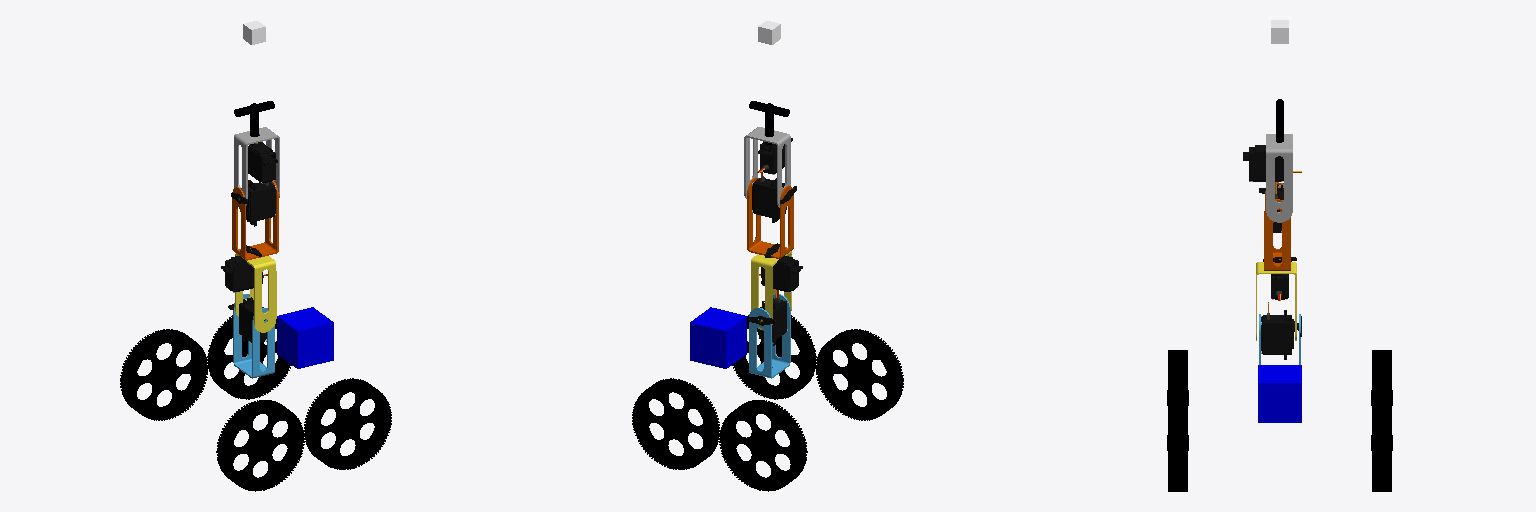
--- Facts derived from the render (not from the file) ---
The picture shows the robot from 3 angles, left to right: view 1: azimuth 30°, elevation 25°; view 2: azimuth 150°, elevation 25°; view 3: azimuth 270°, elevation 25°; orthographic projection.
Robot: Robot_Arm — 25 links, 24 joints (8 revolute, 4 continuous, 12 fixed); root link chassis; default pose: all joints at 0 but 2 set to mid-range because 0 is outside their limits (left_gripper_joint = 0.349, right_gripper_joint = 0.349).
Visible links, largest first — view 1: left_back_wheel1, right_front_wheel1, right_back_wheel1, hokuyo_sensor, left_front_wheel1, shoulder_roll_link, shoulder_pan_link, elbow_pan_link, elbow_pitch_link, servo_wrist_roll, servo_elbow_pan, servo_gripper_pan (+1 smaller); view 2: right_back_wheel1, left_front_wheel1, left_back_wheel1, hokuyo_sensor, right_front_wheel1, shoulder_pan_link, elbow_pitch_link, elbow_pan_link, servo_wrist_roll, shoulder_roll_link, servo_elbow_pan, servo_shoulder_roll (+1 smaller); view 3: hokuyo_sensor, right_front_wheel1, left_front_wheel1, elbow_pitch_link, servo_shoulder_roll, elbow_pan_link, right_back_wheel1, left_back_wheel1, servo_gripper_pan, servo_elbow_pan.
Boxes of the visible links, x1,y1,x2,y2 form: left_back_wheel1: (120,329,207,420); right_front_wheel1: (304,378,391,469); right_back_wheel1: (216,400,304,491); hokuyo_sensor: (277,307,333,368); left_front_wheel1: (207,315,291,399); shoulder_roll_link: (235,254,276,332); shoulder_pan_link: (233,294,274,378); elbow_pan_link: (232,181,278,260); elbow_pitch_link: (234,127,279,205); servo_wrist_roll: (231,180,275,226); servo_elbow_pan: (221,245,267,292); servo_gripper_pan: (248,135,277,183); right_back_wheel1: (816,329,903,420); left_front_wheel1: (632,378,719,469); left_back_wheel1: (719,400,807,491); hokuyo_sensor: (690,307,746,368); right_front_wheel1: (732,315,816,399); shoulder_pan_link: (749,294,790,378); elbow_pitch_link: (744,127,790,207); elbow_pan_link: (747,178,793,258); servo_wrist_roll: (752,172,796,222); shoulder_roll_link: (751,251,791,329); servo_elbow_pan: (759,243,802,292); servo_shoulder_roll: (748,290,787,345); hokuyo_sensor: (1258,365,1301,422); right_front_wheel1: (1167,395,1188,491); left_front_wheel1: (1371,395,1392,491); elbow_pitch_link: (1266,134,1292,222); servo_shoulder_roll: (1261,302,1301,359); elbow_pan_link: (1264,182,1290,270); right_back_wheel1: (1167,350,1188,405); left_back_wheel1: (1371,350,1392,405); servo_gripper_pan: (1243,145,1301,181); servo_elbow_pan: (1263,257,1296,300).
Bounding box of the posed robot: 0.229 × 0.255 × 0.5475 m (x, y, z).
12 mesh visuals loaded from 6 distinct referenced files (3 Collada DAE); not drawn: 5 (reference not matched to a file when rendering).

The robot description file, URDF, robot "Robot_Arm":
<?xml version="1.0" ?>

<robot name="Robot_Arm">
  <!-- /////////////////////////////////////////////////////////////////-->
  <!-- Include materials-->
  <material name="Black">
    <color rgba="0.0 0.0 0.0 1.0"/>
  </material>
  <material name="White">
    <color rgba="1.0 1.0 1.0 1.0"/>
  </material>
  <material name="Blue">
    <color rgba="0.0 0.0 1.0 1.0"/>
  </material>
  <material name="Green">
    <color rgba="0.0 1.0 0.0 1.0"/>
  </material>

  <!-- ////////////////////////////////////////////////////////////-->
  <!-- chassis-->
  <link name="chassis">
    <visual>
      <origin rpy="-1.57 0 1.57" xyz="0 0 0"/>
      <geometry>
        <mesh filename="package://robot_arm/meshes/base assembly.dae"/>
      </geometry>
    </visual>
    <collision>
      <origin rpy="-1.57 0 0" xyz="0 0 0"/>
      <geometry>
        <mesh filename="package://robot_arm/meshes/base assembly.dae"/>
      </geometry>
    </collision>
    <inertial>
      <mass value="5.0"/>
      <inertia ixx="1.0" ixy="0.0" ixz="0.0" iyy="1.0" iyz="0.0" izz="1.0"/>
    </inertial>
  </link>
  <gazebo reference="chassis">
    <turnGravityOff>false</turnGravityOff>
  </gazebo>
  <!-- ///////////////////      Wheels      ///////////////////////   -->
  <link name="right_front_wheel">
    <visual>
      <origin rpy="1.57 0 0" xyz="0 0 0"/>
      <geometry>
        <cylinder length="0.022" radius="0.011"/>
      </geometry>
      <material name="Black"/>
    </visual>
    <collision>
      <origin rpy="1.57 0 0" xyz="0 0 0"/>
      <geometry>
        <cylinder length="0.022" radius="0.011"/>
      </geometry>
    </collision>
    <inertial>
      <mass value="0.2"/>
      <inertia ixx="2.48722222222e-05" ixy="0.0" ixz="0.0" iyy="2.48722222222e-05" iyz="0.0" izz="3.3611111111e-05"/>
    </inertial>
  </link>
  <link name="right_front_wheel1">
    <visual>
      <origin rpy="0  1.57 0" xyz="0 0 0"/>
      <geometry>
        <mesh filename="package://robot_arm/meshes/tyre11.dae"/>
      </geometry>
      <material name="Black"/>
    </visual>
    <collision>
      <origin rpy="0 1.57 0" xyz="0 0 0"/>
      <geometry>
        <mesh filename="package://robot_arm/meshes/tyre11.dae"/>
      </geometry>
    </collision>
    <inertial>
      <mass value="0.2"/>
      <inertia ixx="0.000159316666667" ixy="0.0" ixz="0.0" iyy="0.000159316666667" iyz="0.0" izz="0.0003025"/>
    </inertial>
  </link>
  <gazebo reference="right_front_wheel1">
    <material>Gazebo/Black</material>
    <turnGravityOff>false</turnGravityOff>
  </gazebo>
  <joint name="right_front_wheel_joint1" type="fixed">
    <parent link="right_front_wheel"/>
    <child link="right_front_wheel1"/>
    <origin rpy="0 0 0" xyz="0 0 0"/>
  </joint>
  <gazebo reference="right_front_wheel">
    <mu1 value="200.0"/>
    <mu2 value="100.0"/>
    <kp value="10000000.0"/>
    <kd value="1.0"/>
    <material>Gazebo/Black</material>
  </gazebo>
  <joint name="right_front_wheel_joint" type="continuous">
    <parent link="chassis"/>
    <child link="right_front_wheel"/>
    <origin rpy="0 0 0" xyz="0.062 -0.115  0.015"/>
    <axis xyz="0 1 0"/>
    <limit effort="100" velocity="100"/>
    <dynamics damping="0.0" friction="0.0"/>
  </joint>
  <transmission name="right_front_wheel_trans">
    <type>transmission_interface/SimpleTransmission</type>
    <actuator name="right_front_wheel_motor">
      <hardwareInterface>EffortJointInterface</hardwareInterface>
      <mechanicalReduction>1</mechanicalReduction>
    </actuator>
    <joint name="right_front_wheel_joint">
      <hardwareInterface>VelocityJointInterface</hardwareInterface>
    </joint>
  </transmission>
  <link name="right_back_wheel">
    <visual>
      <origin rpy="1.57 0 0" xyz="0 0 0"/>
      <geometry>
        <cylinder length="0.022" radius="0.011"/>
      </geometry>
      <material name="Black"/>
    </visual>
    <collision>
      <origin rpy="1.57 0 0" xyz="0 0 0"/>
      <geometry>
        <cylinder length="0.022" radius="0.011"/>
      </geometry>
    </collision>
    <inertial>
      <mass value="0.2"/>
      <inertia ixx="2.48722222222e-05" ixy="0.0" ixz="0.0" iyy="2.48722222222e-05" iyz="0.0" izz="3.3611111111e-05"/>
    </inertial>
  </link>
  <link name="right_back_wheel1">
    <visual>
      <origin rpy="0  1.57 0" xyz="0 0 0"/>
      <geometry>
        <mesh filename="package://robot_arm/meshes/tyre11.dae"/>
      </geometry>
      <material name="Black"/>
    </visual>
    <collision>
      <origin rpy="0 1.57 0" xyz="0 0 0"/>
      <geometry>
        <mesh filename="package://robot_arm/meshes/tyre11.dae"/>
      </geometry>
    </collision>
    <inertial>
      <mass value="0.2"/>
      <inertia ixx="0.000159316666667" ixy="0.0" ixz="0.0" iyy="0.000159316666667" iyz="0.0" izz="0.0003025"/>
    </inertial>
  </link>
  <gazebo reference="right_back_wheel1">
    <material>Gazebo/Black</material>
    <turnGravityOff>false</turnGravityOff>
  </gazebo>
  <joint name="right_back_wheel_joint1" type="fixed">
    <parent link="right_back_wheel"/>
    <child link="right_back_wheel1"/>
    <origin rpy="0 0 0" xyz="0 0 0"/>
  </joint>
  <gazebo reference="right_back_wheel">
    <mu1 value="200.0"/>
    <mu2 value="100.0"/>
    <kp value="10000000.0"/>
    <kd value="1.0"/>
    <material>Gazebo/Black</material>
  </gazebo>
  <joint name="right_back_wheel_joint" type="continuous">
    <parent link="chassis"/>
    <child link="right_back_wheel"/>
    <origin rpy="0 0 0" xyz="-0.058 -0.115  0.015"/>
    <axis xyz="0 1 0"/>
    <limit effort="100" velocity="100"/>
    <dynamics damping="0.0" friction="0.0"/>
  </joint>
  <transmission name="right_back_wheel_trans">
    <type>transmission_interface/SimpleTransmission</type>
    <actuator name="right_back_wheel_motor">
      <hardwareInterface>EffortJointInterface</hardwareInterface>
      <mechanicalReduction>1</mechanicalReduction>
    </actuator>
    <joint name="right_back_wheel_joint">
      <hardwareInterface>VelocityJointInterface</hardwareInterface>
    </joint>
  </transmission>
  <link name="left_front_wheel">
    <visual>
      <origin rpy="1.57 0 0" xyz="0 0 0"/>
      <geometry>
        <cylinder length="0.022" radius="0.011"/>
      </geometry>
      <material name="Black"/>
    </visual>
    <collision>
      <origin rpy="1.57 0 0" xyz="0 0 0"/>
      <geometry>
        <cylinder length="0.022" radius="0.011"/>
      </geometry>
    </collision>
    <inertial>
      <mass value="0.2"/>
      <inertia ixx="2.48722222222e-05" ixy="0.0" ixz="0.0" iyy="2.48722222222e-05" iyz="0.0" izz="3.3611111111e-05"/>
    </inertial>
  </link>
  <link name="left_front_wheel1">
    <visual>
      <origin rpy="0  1.57 0" xyz="0 0 0"/>
      <geometry>
        <mesh filename="package://robot_arm/meshes/tyre11.dae"/>
      </geometry>
      <material name="Black"/>
    </visual>
    <collision>
      <origin rpy="0 1.57 0" xyz="0 0 0"/>
      <geometry>
        <mesh filename="package://robot_arm/meshes/tyre11.dae"/>
      </geometry>
    </collision>
    <inertial>
      <mass value="0.2"/>
      <inertia ixx="0.000159316666667" ixy="0.0" ixz="0.0" iyy="0.000159316666667" iyz="0.0" izz="0.0003025"/>
    </inertial>
  </link>
  <gazebo reference="left_front_wheel1">
    <material>Gazebo/Black</material>
    <turnGravityOff>false</turnGravityOff>
  </gazebo>
  <joint name="left_front_wheel_joint1" type="fixed">
    <parent link="left_front_wheel"/>
    <child link="left_front_wheel1"/>
    <origin rpy="0 0 0" xyz="0 0 0"/>
  </joint>
  <gazebo reference="left_front_wheel">
    <mu1 value="200.0"/>
    <mu2 value="100.0"/>
    <kp value="10000000.0"/>
    <kd value="1.0"/>
    <material>Gazebo/Black</material>
  </gazebo>
  <joint name="left_front_wheel_joint" type="continuous">
    <parent link="chassis"/>
    <child link="left_front_wheel"/>
    <origin rpy="0 0 0" xyz="0.062 0.115  0.015"/>
    <axis xyz="0 1 0"/>
    <limit effort="100" velocity="100"/>
    <dynamics damping="0.0" friction="0.0"/>
  </joint>
  <transmission name="left_front_wheel_trans">
    <type>transmission_interface/SimpleTransmission</type>
    <actuator name="left_front_wheel_motor">
      <hardwareInterface>EffortJointInterface</hardwareInterface>
      <mechanicalReduction>1</mechanicalReduction>
    </actuator>
    <joint name="left_front_wheel_joint">
      <hardwareInterface>VelocityJointInterface</hardwareInterface>
    </joint>
  </transmission>
  <link name="left_back_wheel">
    <visual>
      <origin rpy="1.57 0 0" xyz="0 0 0"/>
      <geometry>
        <cylinder length="0.022" radius="0.011"/>
      </geometry>
      <material name="Black"/>
    </visual>
    <collision>
      <origin rpy="1.57 0 0" xyz="0 0 0"/>
      <geometry>
        <cylinder length="0.022" radius="0.011"/>
      </geometry>
    </collision>
    <inertial>
      <mass value="0.2"/>
      <inertia ixx="2.48722222222e-05" ixy="0.0" ixz="0.0" iyy="2.48722222222e-05" iyz="0.0" izz="3.3611111111e-05"/>
    </inertial>
  </link>
  <link name="left_back_wheel1">
    <visual>
      <origin rpy="0  1.57 0" xyz="0 0 0"/>
      <geometry>
        <mesh filename="package://robot_arm/meshes/tyre11.dae"/>
      </geometry>
      <material name="Black"/>
    </visual>
    <collision>
      <origin rpy="0 1.57 0" xyz="0 0 0"/>
      <geometry>
        <mesh filename="package://robot_arm/meshes/tyre11.dae"/>
      </geometry>
    </collision>
    <inertial>
      <mass value="0.2"/>
      <inertia ixx="0.000159316666667" ixy="0.0" ixz="0.0" iyy="0.000159316666667" iyz="0.0" izz="0.0003025"/>
    </inertial>
  </link>
  <gazebo reference="left_back_wheel1">
    <material>Gazebo/Black</material>
    <turnGravityOff>false</turnGravityOff>
  </gazebo>
  <joint name="left_back_wheel_joint1" type="fixed">
    <parent link="left_back_wheel"/>
    <child link="left_back_wheel1"/>
    <origin rpy="0 0 0" xyz="0 0 0"/>
  </joint>
  <gazebo reference="left_back_wheel">
    <mu1 value="200.0"/>
    <mu2 value="100.0"/>
    <kp value="10000000.0"/>
    <kd value="1.0"/>
    <material>Gazebo/Black</material>
  </gazebo>
  <joint name="left_back_wheel_joint" type="continuous">
    <parent link="chassis"/>
    <child link="left_back_wheel"/>
    <origin rpy="0 0 0" xyz="-0.058 0.115  0.015"/>
    <axis xyz="0 1 0"/>
    <limit effort="100" velocity="100"/>
    <dynamics damping="0.0" friction="0.0"/>
  </joint>
  <transmission name="left_back_wheel_trans">
    <type>transmission_interface/SimpleTransmission</type>
    <actuator name="left_back_wheel_motor">
      <hardwareInterface>EffortJointInterface</hardwareInterface>
      <mechanicalReduction>1</mechanicalReduction>
    </actuator>
    <joint name="left_back_wheel_joint">
      <hardwareInterface>VelocityJointInterface</hardwareInterface>
    </joint>
  </transmission>
  <!-- /////////////////////////////////////////////////// -->
  <!-- shoulder pan link -->
  <link name="shoulder_pan_link">
    <visual>
      <origin rpy="0 0 0" xyz="-0.0235 -0.0145 0.075"/>
      <geometry>
        <mesh filename="package://robot_arm/meshes/mid-arm.dae"/>
      </geometry>
    </visual>
    <collision>
      <origin rpy="0 0 0" xyz="-0.0235 -0.0145 0.075"/>
      <geometry>
        <mesh filename="package://robot_arm/meshes/mid-arm.dae"/>
      </geometry>
    </collision>
    <inertial>
      <mass value="0.05"/>
      <inertia ixx="1.0" ixy="0.0" ixz="0.0" iyy="1.0" iyz="0.0" izz="1.0"/>
    </inertial>
  </link>
  <joint name="shoulder_pan_joint" type="revolute">
    <parent link="chassis"/>
    <child link="shoulder_pan_link"/>
    <origin rpy="0 0 1.57" xyz="0 0 0.07"/>
    <axis xyz="0 0 1"/>
    <limit effort="100" lower="-2.00" upper="1.57" velocity="100"/>
    <dynamics damping="0.0" friction="0.0"/>
  </joint>
  <!--  SERVO shoulder pan link motor-->
  <link name="servo_shoulder_roll">
    <visual>
      <origin rpy="4.71 0 1.57" xyz="-0.015 0.04 0"/>
      <geometry>
        <mesh filename="package://robot_arm/meshes/Servo Motor.dae"/>
      </geometry>
    </visual>
    <collision>
      <origin rpy="4.71 0 1.57" xyz="-0.015 0.04 0"/>
      <geometry>
        <mesh filename="package://robot_arm/meshes/Servo Motor.dae"/>
      </geometry>
    </collision>
    <inertial>
      <mass value="0.05"/>
      <inertia ixx="1.0" ixy="0.0" ixz="0.0" iyy="1.0" iyz="0.0" izz="1.0"/>
    </inertial>
  </link>
  <gazebo reference="servo_shoulder_roll">
    <turnGravityOff>false</turnGravityOff>
  </gazebo>
  <joint name="servo_joint1" type="fixed">
    <parent link="shoulder_pan_link"/>
    <child link="servo_shoulder_roll"/>
    <origin rpy="0 0 0" xyz="-0.004 -0.002 0.080"/>
  </joint>
  <!-- //////////////////////////////////////////////////////////////////////////////-->
  <link name="shoulder_roll_link">
    <visual>
      <origin rpy="3.14 0 0" xyz="-0.0275 0.0155 -0.015"/>
      <geometry>
        <mesh filename="package://robot_arm/meshes/mid-arm.dae"/>
      </geometry>
    </visual>
    <collision>
      <origin rpy="3.14 0 0" xyz="-0.0275 0.0155 -0.015"/>
      <geometry>
        <mesh filename="package://robot_arm/meshes/mid-arm.dae"/>
      </geometry>
    </collision>
    <inertial>
      <mass value="0.05"/>
      <inertia ixx="1.0" ixy="0.0" ixz="0.0" iyy="1.0" iyz="0.0" izz="1.0"/>
    </inertial>
  </link>
  <joint name="shoulder_roll_joint" type="revolute">
    <parent link="shoulder_pan_link"/>
    <child link="shoulder_roll_link"/>
    <origin rpy="0 0 0" xyz="0 0 0.06"/>
    <axis xyz="1 0 0"/>
    <limit effort="100" lower="-1.57" upper="2.00" velocity="100"/>
    <dynamics damping="0.0" friction="0.0"/>
  </joint>
  <!-- SERVO elbow roll motor-->
  <link name="servo_elbow_pan">
    <visual>
      <origin rpy="3.14 0 3.14" xyz="-0.035 -0.016 0"/>
      <geometry>
        <mesh filename="package://robot_arm/meshes/Servo Motor.dae"/>
      </geometry>
    </visual>
    <collision>
      <origin rpy="3.14 0 3.14" xyz="-0.035 -0.016 0"/>
      <geometry>
        <mesh filename="package://robot_arm/meshes/Servo Motor.dae"/>
      </geometry>
    </collision>
    <inertial>
      <mass value="0.05"/>
      <inertia ixx="1.0" ixy="0.0" ixz="0.0" iyy="1.0" iyz="0.0" izz="1.0"/>
    </inertial>
  </link>
  <gazebo reference="servo_elbow_pan">
    <turnGravityOff>false</turnGravityOff>
  </gazebo>
  <joint name="servo_joint2" type="fixed">
    <parent link="shoulder_roll_link"/>
    <child link="servo_elbow_pan"/>
    <origin rpy="0 0 0" xyz="0 0 0.040"/>
  </joint>
  <!--/////////////////////////////////////////////////////////////////////////////////////-->
  <link name="elbow_pan_link">
    <visual>
      <origin rpy="0 0 0" xyz="-0.0235 -0.0125 0.09"/>
      <geometry>
        <mesh filename="package://robot_arm/meshes/mid-arm.dae"/>
      </geometry>
    </visual>
    <collision>
      <origin rpy="0 0 0" xyz="-0.0235 -0.0125 0.09"/>
      <geometry>
        <mesh filename="package://robot_arm/meshes/mid-arm.dae"/>
      </geometry>
    </collision>
    <inertial>
      <mass value="0.05"/>
      <inertia ixx="1.0" ixy="0.0" ixz="0.0" iyy="1.0" iyz="0.0" izz="1.0"/>
    </inertial>
  </link>
  <joint name="elbow_pan_joint" type="revolute">
    <parent link="shoulder_roll_link"/>
    <child link="elbow_pan_link"/>
    <origin rpy="0 0 1.57" xyz="0 0 0.08"/>
    <axis xyz="0 0 1"/>
    <limit effort="100" lower="-1.57" upper="1.57" velocity="100"/>
    <dynamics damping="0.0" friction="0.0"/>
  </joint>
  <!--  SERVO wrist roll link motor-->
  <link name="servo_wrist_roll">
    <visual>
      <origin rpy="4.71 0 1.57" xyz="-0.015 0.04 0"/>
      <geometry>
        <mesh filename="package://robot_arm/meshes/Servo Motor.dae"/>
      </geometry>
    </visual>
    <collision>
      <origin rpy="4.71 0 1.57" xyz="-0.015 0.04 0"/>
      <geometry>
        <mesh filename="package://robot_arm/meshes/Servo Motor.dae"/>
      </geometry>
    </collision>
    <inertial>
      <mass value="0.05"/>
      <inertia ixx="1.0" ixy="0.0" ixz="0.0" iyy="1.0" iyz="0.0" izz="1.0"/>
    </inertial>
  </link>
  <gazebo reference="servo_wrist_roll">
    <turnGravityOff>false</turnGravityOff>
  </gazebo>
  <joint name="servo_joint3" type="fixed">
    <parent link="elbow_pan_link"/>
    <child link="servo_wrist_roll"/>
    <origin rpy="0 0 0" xyz="-0.004 0 0.098"/>
  </joint>
  <!--////////////////////////////////////////////////////////////////////////////////////-->
  <!-- elbow pitch link -->
  <link name="elbow_pitch_link">
    <visual>
      <origin rpy="3.14 0 0" xyz="-0.0265 0.0155 -0.015"/>
      <geometry>
        <mesh filename="package://robot_arm/meshes/mid-arm.dae"/>
      </geometry>
    </visual>
    <collision>
      <origin rpy="3.14 0 0" xyz="-0.0265 0.0155 -0.015"/>
      <geometry>
        <mesh filename="package://robot_arm/meshes/mid-arm.dae"/>
      </geometry>
    </collision>
    <inertial>
      <mass value="0.05"/>
      <inertia ixx="1.0" ixy="0.0" ixz="0.0" iyy="1.0" iyz="0.0" izz="1.0"/>
    </inertial>
  </link>
  <joint name="elbow_pitch_joint" type="revolute">
    <parent link="elbow_pan_link"/>
    <child link="elbow_pitch_link"/>
    <origin rpy="0 0 0" xyz="0 0 0.078"/>
    <axis xyz="1 0 0"/>
    <limit effort="100" lower="-1.57" upper="2.00" velocity="100"/>
    <dynamics damping="0.0" friction="0.0"/>
  </joint>
  <!-- SERVO gripper pan motor-->
  <link name="servo_gripper_pan">
    <visual>
      <origin rpy="3.14 0 3.14" xyz="-0.035 -0.016 0"/>
      <geometry>
        <mesh filename="package://robot_arm/meshes/Servo Motor.dae"/>
      </geometry>
    </visual>
    <collision>
      <origin rpy="3.14 0 3.14" xyz="-0.035 -0.016 0"/>
      <geometry>
        <mesh filename="package://robot_arm/meshes/Servo Motor.dae"/>
      </geometry>
    </collision>
    <inertial>
      <mass value="0.05"/>
      <inertia ixx="1.0" ixy="0.0" ixz="0.0" iyy="1.0" iyz="0.0" izz="1.0"/>
    </inertial>
  </link>
  <gazebo reference="servo_gripper_pan">
    <turnGravityOff>false</turnGravityOff>
  </gazebo>
  <joint name="servo_joint4" type="fixed">
    <parent link="elbow_pitch_link"/>
    <child link="servo_gripper_pan"/>
    <origin rpy="0 0 0" xyz="0 0 0.03"/>
  </joint>
  <!-- ////////////////////////////////////////////////////////////////////////////-->
  <link name="gripper_pan_link">
    <visual>
      <origin rpy="0 0 0" xyz="0 0 0"/>
      <geometry>
        <cylinder length="0.05" radius="0.005"/>
      </geometry>
      <material name="Black"/>
    </visual>
    <collision>
      <origin rpy="0 0 0" xyz="0 0 0"/>
      <geometry>
        <cylinder length="0.05" radius="0.005"/>
      </geometry>
    </collision>
    <inertial>
      <mass value="0.01"/>
      <inertia ixx="1.0" ixy="0.0" ixz="0.0" iyy="1.0" iyz="0.0" izz="1.0"/>
    </inertial>
  </link>
  <gazebo reference="gripper_pan_link">
    <material>Gazebo/Black</material>
  </gazebo>
  <joint name="gripper_pan_joint" type="revolute">
    <parent link="elbow_pitch_link"/>
    <child link="gripper_pan_link"/>
    <origin rpy="0 0 0" xyz="0 0 0.09"/>
    <axis xyz="0 0 1"/>
    <limit effort="100" lower="-1.57" upper="1.57" velocity="100"/>
    <dynamics damping="0.0" friction="0.0"/>
  </joint>
  <link name="gripper_pitch_link">
    <visual>
      <origin rpy="0 0 0" xyz="0 0 0"/>
      <geometry>
        <cylinder length="0.05" radius="0.005"/>
      </geometry>
      <material name="Black"/>
    </visual>
    <collision>
      <origin rpy="0 0 0" xyz="0 0 0"/>
      <geometry>
        <cylinder length="0.05" radius="0.005"/>
      </geometry>
    </collision>
    <inertial>
      <mass value="0.01"/>
      <inertia ixx="1.0" ixy="0.0" ixz="0.0" iyy="1.0" iyz="0.0" izz="1.0"/>
    </inertial>
  </link>
  <gazebo reference="gripper_pitch_link">
    <material>Gazebo/Black</material>
  </gazebo>
  <joint name="gripper_pitch_joint" type="revolute">
    <parent link="gripper_pan_link"/>
    <child link="gripper_pitch_link"/>
    <origin rpy="0 1.57 0" xyz="0 0 0.02"/>
    <axis xyz="0 1 0"/>
    <limit effort="100" lower="-1.57" upper="1.57" velocity="100"/>
    <dynamics damping="0.0" friction="0.0"/>
  </joint>
  <!--////////////////////////////////////////////////////////////////-->
  <joint name="left_gripper_joint" type="revolute">
    <axis xyz="-1.0 0 0"/>
    <limit effort="100.0" lower="0.15" upper="0.548" velocity="1"/>
    <origin rpy="0 -1.57 0" xyz="0 0.01 0"/>
    <parent link="gripper_pitch_link"/>
    <child link="left_gripper"/>
    <safety_controller k_position="20" k_velocity="20" soft_lower_limit="-0.15" soft_upper_limit="0.0"/>
    <dynamics damping="50" friction="1"/>
  </joint>
  <link name="left_gripper">
    <visual>
      <origin rpy="0 -1.57 0.0" xyz="0 0 0"/>
      <geometry>
        <mesh filename="package://urdf_tutorial/meshes/l_finger.dae"/>
      </geometry>
    </visual>
    <collision>
      <geometry>
        <mesh filename="package://urdf_tutorial/meshes/l_finger.dae"/>
      </geometry>
      <origin rpy="0 -1.57 0.0" xyz="0 0 0"/>
    </collision>
    <inertial>
      <mass value="0.05"/>
      <inertia ixx="1.0" ixy="0.0" ixz="0.0" iyy="1.0" iyz="0.0" izz="1.0"/>
    </inertial>
  </link>
  <joint name="left_tip_joint" type="fixed">
    <parent link="left_gripper"/>
    <child link="left_tip"/>
  </joint>
  <link name="left_tip">
    <visual>
      <origin rpy="0 -1.57 0.0" xyz="0 0.00495 0.09137"/>
      <geometry>
        <mesh filename="package://urdf_tutorial/meshes/l_finger_tip.dae"/>
      </geometry>
    </visual>
    <collision>
      <geometry>
        <mesh filename="package://urdf_tutorial/meshes/l_finger_tip.dae"/>
      </geometry>
      <origin rpy="0 -1.57 0.0" xyz="0 0.00495 0.09137"/>
    </collision>
    <inertial>
      <mass value="0.05"/>
      <inertia ixx="1.0" ixy="0.0" ixz="0.0" iyy="1.0" iyz="0.0" izz="1.0"/>
    </inertial>
  </link>
  <joint name="right_gripper_joint" type="revolute">
    <axis xyz="1.0 0 0"/>
    <limit effort="100.0" lower="0.15" upper="0.548" velocity="1"/>
    <origin rpy="0 -1.57 0" xyz="0 -0.01 0"/>
    <parent link="gripper_pitch_link"/>
    <child link="right_gripper"/>
    <safety_controller k_position="20" k_velocity="20" soft_lower_limit="-0.15" soft_upper_limit="0.0"/>
    <dynamics damping="50" friction="1"/>
  </joint>
  <link name="right_gripper">
    <visual>
      <origin rpy="0 -1.57 -3.14" xyz="0 0 0"/>
      <geometry>
        <mesh filename="package://urdf_tutorial/meshes/l_finger.dae"/>
      </geometry>
    </visual>
    <collision>
      <geometry>
        <mesh filename="package://urdf_tutorial/meshes/l_finger.dae"/>
      </geometry>
      <origin rpy="0 -1.57 -3.14" xyz="0 0 0"/>
    </collision>
    <inertial>
      <mass value="0.05"/>
      <inertia ixx="1.0" ixy="0.0" ixz="0.0" iyy="1.0" iyz="0.0" izz="1.0"/>
    </inertial>
  </link>
  <joint name="right_tip_joint" type="fixed">
    <parent link="right_gripper"/>
    <child link="right_tip"/>
  </joint>
  <link name="right_tip">
    <visual>
      <origin rpy="0 -1.57 -3.14" xyz="0 -0.00495 0.09137"/>
      <geometry>
        <mesh filename="package://urdf_tutorial/meshes/l_finger_tip.dae"/>
      </geometry>
    </visual>
    <collision>
      <geometry>
        <mesh filename="package://urdf_tutorial/meshes/l_finger_tip.dae"/>
      </geometry>
      <origin rpy="0 -1.57 -3.14" xyz="0 -0.00495 0.09137"/>
    </collision>
    <inertial>
      <mass value="0.05"/>
      <inertia ixx="1.0" ixy="0.0" ixz="0.0" iyy="1.0" iyz="0.0" izz="1.0"/>
    </inertial>
  </link>
  <!--///////////////////////////////////////////////////////////////// -->
  <link name="hokuyo_sensor">
    <visual>
      <origin rpy="0 0 0" xyz="0 0 0"/>
      <geometry>
        <box size="0.05 0.05 0.05"/>
      </geometry>
      <material name="Blue"/>
    </visual>
  </link>
  <joint name="hokuyo_joint" type="fixed">
    <origin rpy="0 0 0" xyz="0.07 0 0.08"/>
    <parent link="chassis"/>
    <child link="hokuyo_sensor"/>
  </joint>
  <gazebo reference="hokuyo_sensor">
    <material>Gazebo/Blue</material>
    <turnGravityOff>false</turnGravityOff>
    <sensor name="chassis_hokuyo_sensor" type="ray">
      <pose>0.025 0 0 0 0 0</pose>
      <visualize>false</visualize>
      <update_rate>40</update_rate>
      <ray>
        <scan>
          <horizontal>
            <samples>720</samples>
            <resolution>1</resolution>
            <min_angle>-1.57</min_angle>
            <max_angle>1.57</max_angle>
          </horizontal>
        </scan>
        <range>
          <min>0.10</min>
          <max>10.0</max>
          <resolution>0.001</resolution>
        </range>
      </ray>
      <plugin filename="libgazebo_ros_laser.so" name="gazebo_ros_head_hokuyo_controller">
        <topicName>/scan</topicName>
        <frameName>hokuyo_sensor</frameName>
      </plugin>
    </sensor>
  </gazebo>
  <!-- Grasping frame -->
  <link name="grasping_frame">
    <inertial>
      <origin rpy="0 0 0" xyz="0 0 0"/>
      <mass value="0.0001"/>
      <cuboid_inertia mass="0.0001" x="0.001" y="0.001" z="0.001"/>
      <inertia ixx="1.0" ixy="0.0" ixz="0.0" iyy="100.0" iyz="0.0" izz="1.0"/>
    </inertial>
    <visual>
      <origin xyz="0 0 0"/>
      <geometry>
        <box size="0.02 0.02 0.02"/>
      </geometry>
      <material name="White"/>
    </visual>
  </link>
  <joint name="grasping_frame_joint" type="fixed">
    <parent link="gripper_pitch_link"/>
    s
      
    <child link="grasping_frame"/>
    <origin rpy="0 0 0" xyz="-0.1 0 0"/>
  </joint>
  <!-- //////////////////////////////////////////////////////////////// -->
  <!-- Transmission for ROS CONTROL-->
  <transmission name="shoulder_pan_joint_trans">
    <type>transmission_interface/SimpleTransmission</type>
    <joint name="shoulder_pan_joint">
      <hardwareInterface>PositionJointInterface</hardwareInterface>
    </joint>
    <actuator name="shoulder_pan_joint_motor">
      <hardwareInterface>PositionJointInterface</hardwareInterface>
      <mechanicalReduction>1</mechanicalReduction>
    </actuator>
  </transmission>
  <transmission name="shoulder_roll_joint_trans">
    <type>transmission_interface/SimpleTransmission</type>
    <joint name="shoulder_roll_joint">
      <hardwareInterface>PositionJointInterface</hardwareInterface>
    </joint>
    <actuator name="shoulder_roll_joint_motor">
      <hardwareInterface>PositionJointInterface</hardwareInterface>
      <mechanicalReduction>1</mechanicalReduction>
    </actuator>
  </transmission>
  <transmission name="elbow_pan_joint_trans">
    <type>transmission_interface/SimpleTransmission</type>
    <joint name="elbow_pan_joint">
      <hardwareInterface>PositionJointInterface</hardwareInterface>
    </joint>
    <actuator name="elbow_pan_joint_motor">
      <hardwareInterface>PositionJointInterface</hardwareInterface>
      <mechanicalReduction>1</mechanicalReduction>
    </actuator>
  </transmission>
  <transmission name="elbow_pitch_joint_trans">
    <type>transmission_interface/SimpleTransmission</type>
    <joint name="elbow_pitch_joint">
      <hardwareInterface>PositionJointInterface</hardwareInterface>
    </joint>
    <actuator name="elbow_pitch_joint_motor">
      <hardwareInterface>PositionJointInterface</hardwareInterface>
      <mechanicalReduction>1</mechanicalReduction>
    </actuator>
  </transmission>
  <transmission name="gripper_pan_joint_trans">
    <type>transmission_interface/SimpleTransmission</type>
    <joint name="gripper_pan_joint">
      <hardwareInterface>PositionJointInterface</hardwareInterface>
    </joint>
    <actuator name="gripper_pan_joint_motor">
      <hardwareInterface>PositionJointInterface</hardwareInterface>
      <mechanicalReduction>1</mechanicalReduction>
    </actuator>
  </transmission>
  <transmission name="left_gripper_joint_trans">
    <type>transmission_interface/SimpleTransmission</type>
    <joint name="left_gripper_joint">
      <hardwareInterface>PositionJointInterface</hardwareInterface>
    </joint>
    <actuator name="left_gripper_joint_motor">
      <hardwareInterface>PositionJointInterface</hardwareInterface>
      <mechanicalReduction>1</mechanicalReduction>
    </actuator>
  </transmission>
  <transmission name="right_gripper_joint_trans">
    <type>transmission_interface/SimpleTransmission</type>
    <joint name="right_gripper_joint">
      <hardwareInterface>PositionJointInterface</hardwareInterface>
    </joint>
    <actuator name="right_gripper_joint_motor">
      <hardwareInterface>PositionJointInterface</hardwareInterface>
      <mechanicalReduction>1</mechanicalReduction>
    </actuator>
  </transmission>
  <transmission name="gripper_pitch_joint_trans">
    <type>transmission_interface/SimpleTransmission</type>
    <joint name="gripper_pitch_joint">
      <hardwareInterface>PositionJointInterface</hardwareInterface>
    </joint>
    <actuator name="gripper_pitch_joint_motor">
      <hardwareInterface>PositionJointInterface</hardwareInterface>
      <mechanicalReduction>1</mechanicalReduction>
    </actuator>
  </transmission>
  <!-- ros_control plugin-->
  <gazebo>
    <plugin filename="libgazebo_ros_control.so" name="gazebo_ros_control">
      <robotNamespace>/</robotNamespace>
    </plugin>
  </gazebo>
</robot>
